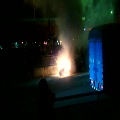fire: (58, 56, 71, 76)
